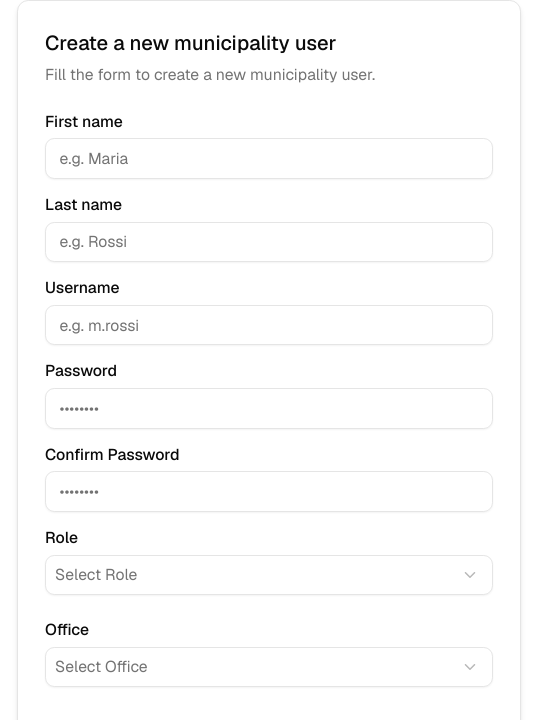
Test: MunicipalityUserForm › should allow selecting PUBLIC_RELATIONS_OFFICER role
What coordinates should you click on to do the following:
click the dropdown labelled "Select Role"
I would click on:
 (96, 574)
Its box is [45,554,493,595].
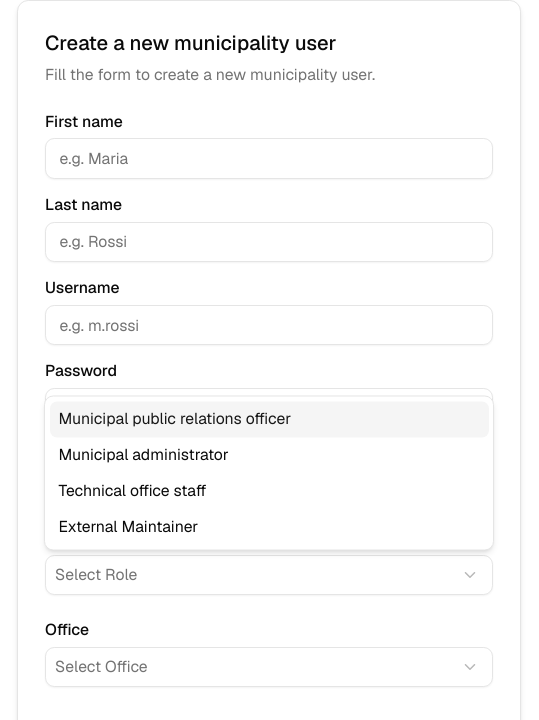
What coordinates should you click on to do the following:
click the option "Municipal public relations officer"
I would click on:
 (269, 419)
Its box is [50,401,488,437].
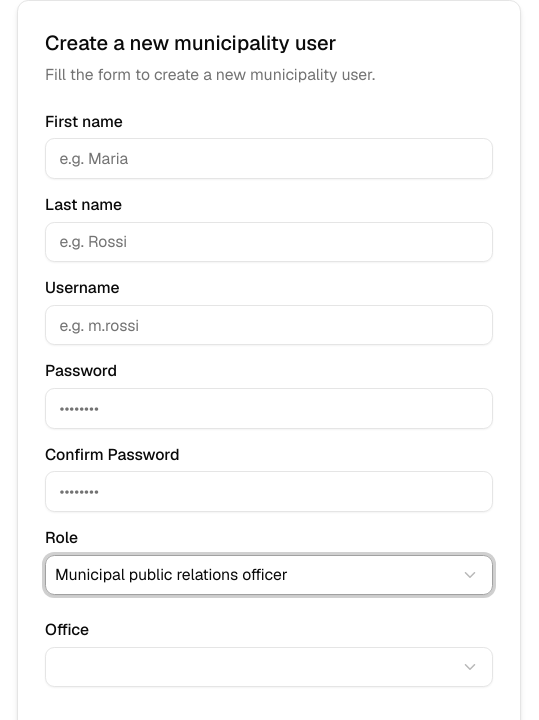
Expected: the text "Municipal public relations officer" is shown, [55,564,288,586]
